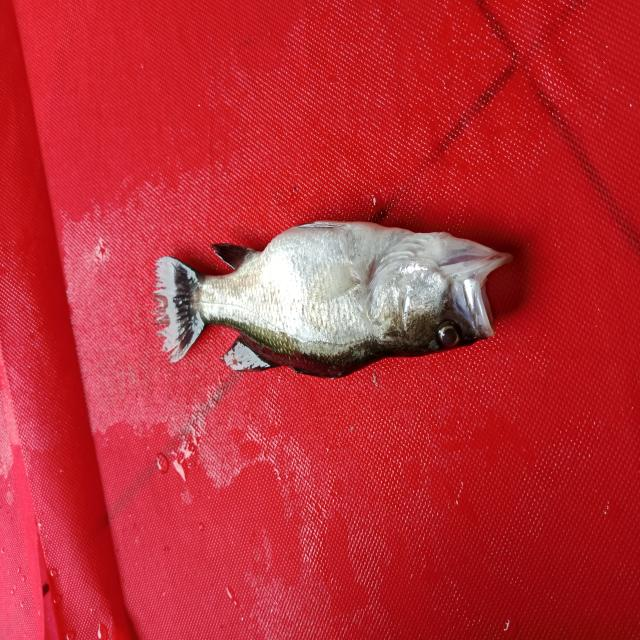ikan: (138, 202, 529, 398)
